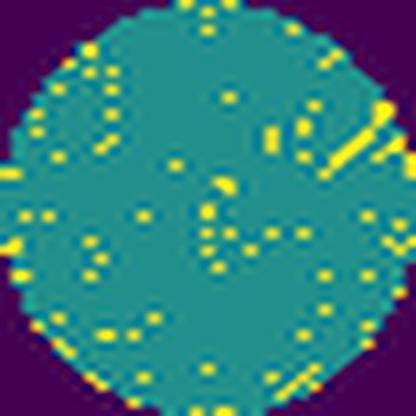Scratch: (316, 116, 387, 187)
